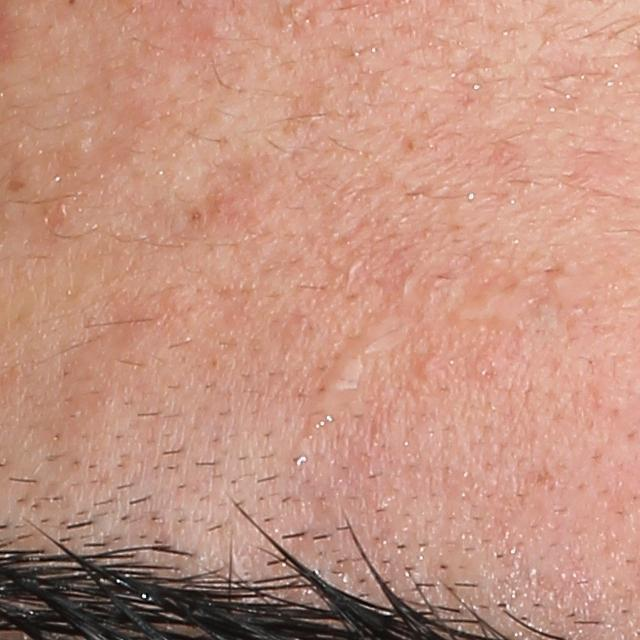comedo: (204, 16, 228, 42), (72, 132, 97, 156), (417, 355, 440, 379), (188, 207, 205, 224)
